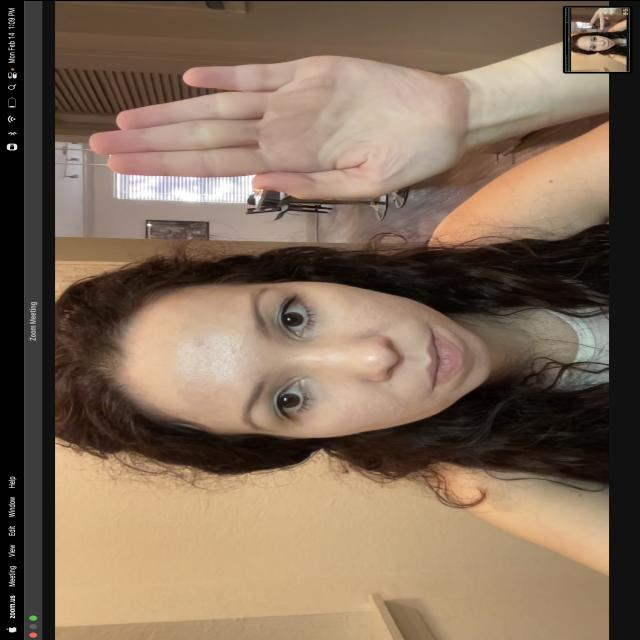Paper: (81, 48, 478, 206)
